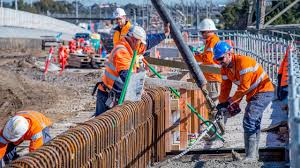helmet: (8, 117, 25, 139), (199, 17, 217, 33), (132, 25, 147, 44), (113, 8, 125, 17)
